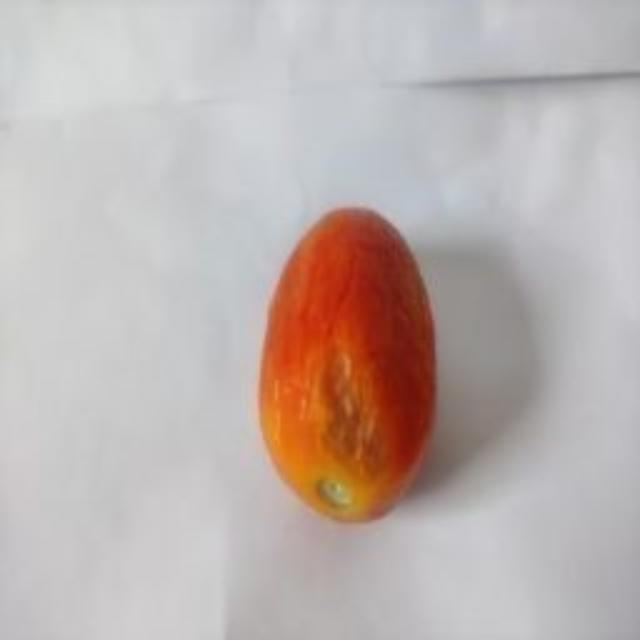defect: (252, 200, 439, 527)
